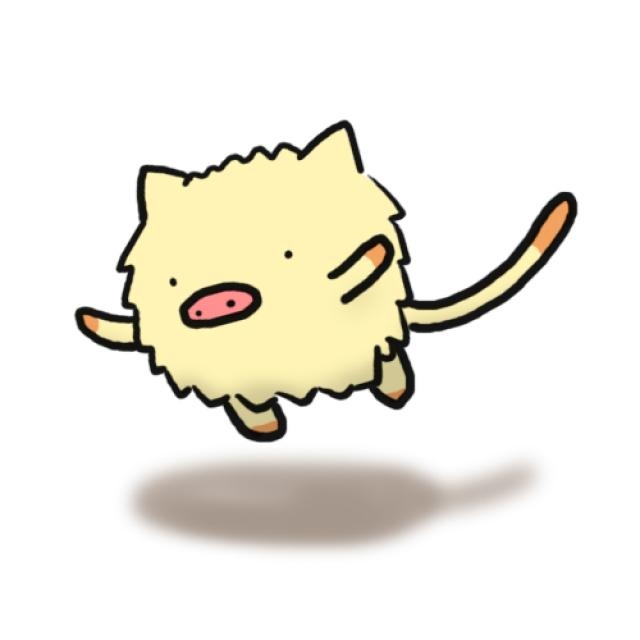Mankey: (77, 121, 450, 440)
